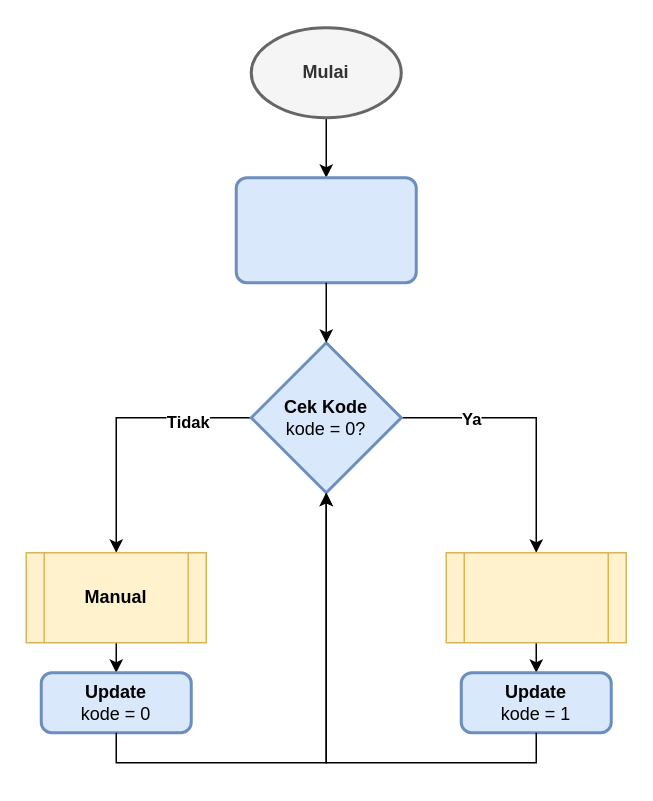
Image size: 653x801. Some labels were removed from this diagram. Here are the shapes that lost their labels. From the top down, the box of each, then its label:
(234, 176, 417, 284): Inisialisasi pengaturan port ATmega32
(445, 551, 626, 643): Otomatis
